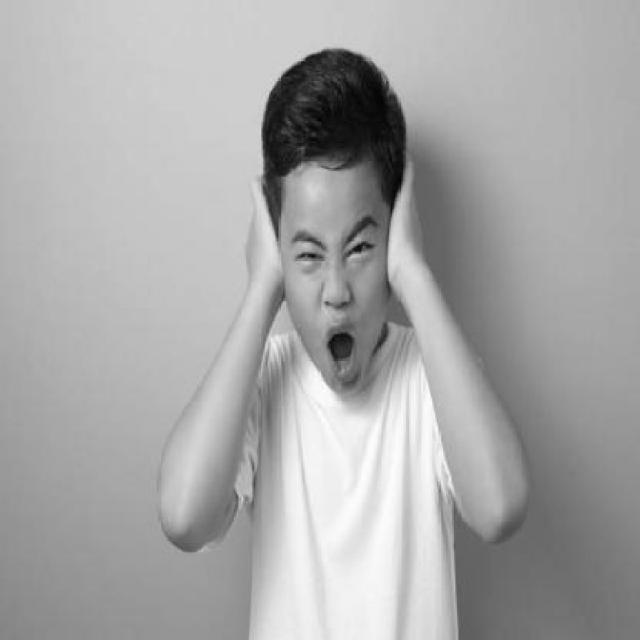angry: (288, 207, 384, 385)
